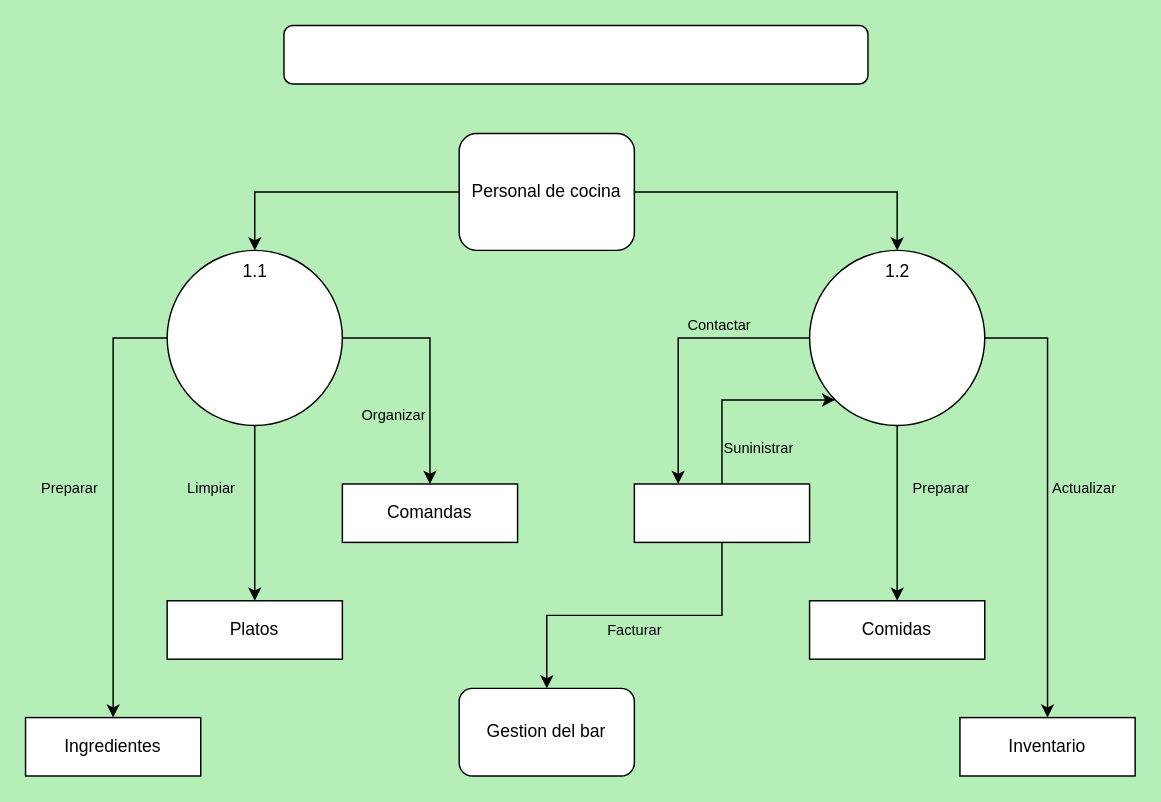
Some shapes in this 1161 by 802 pixel diagram are drawn without their labels. Each missing label, with the box of its shape:
Ayudante: (166, 249, 342, 426)
Cocineros: (808, 249, 985, 426)
Diagrama 1: Personal de cocina: (283, 24, 868, 84)
Proveedores: (633, 483, 810, 542)
